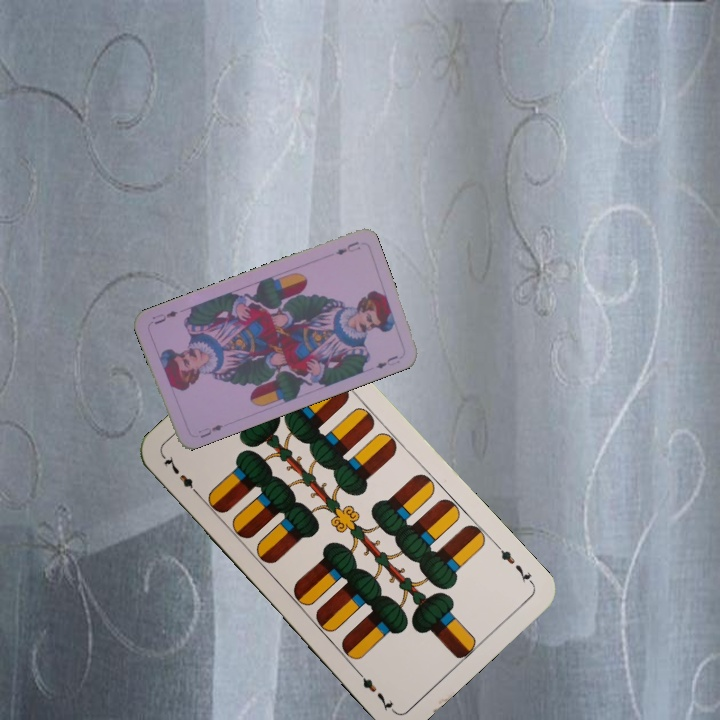E7: (159, 452, 204, 500), (491, 540, 536, 587)
EU: (194, 420, 226, 441), (332, 237, 363, 258)
